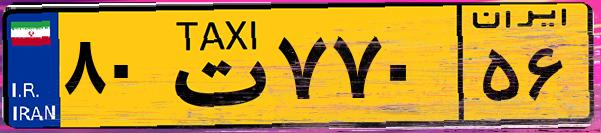0: (385, 28, 445, 110), (110, 28, 158, 98)
5: (475, 38, 525, 113)
6: (525, 38, 570, 115)
7: (270, 28, 330, 110), (330, 28, 385, 110)
8: (57, 26, 110, 100)
ت: (158, 12, 270, 120)
